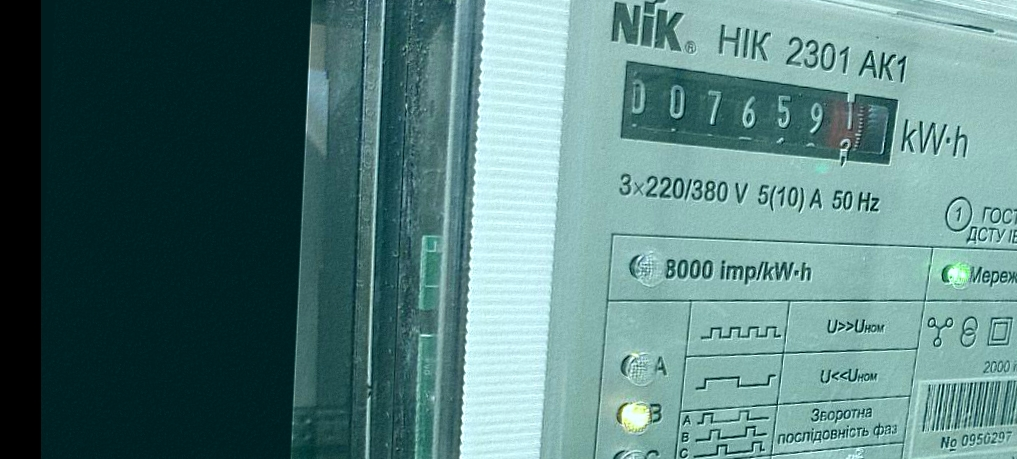0: (665, 80, 691, 122), (626, 75, 651, 117)
1: (842, 100, 860, 133)
5: (774, 92, 796, 130)
6: (739, 91, 761, 131)
7: (704, 86, 725, 127)
9: (808, 99, 826, 137)
screen: (611, 51, 909, 183)
